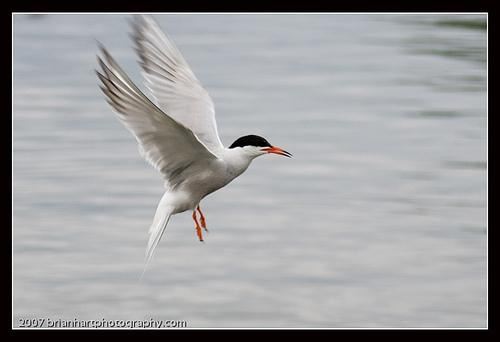bird: (90, 11, 294, 285)
